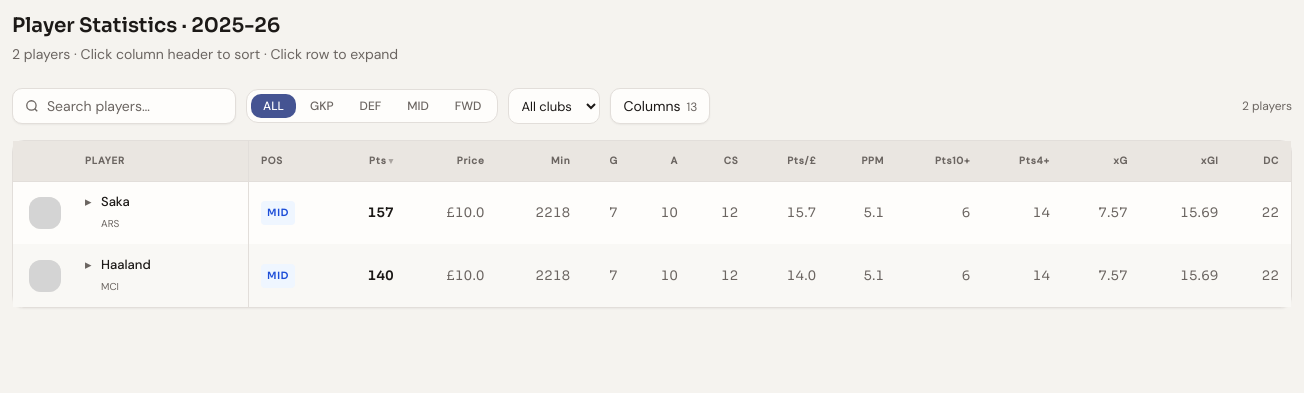
Test: Players: the row toggle behaves exactly like the career one › still expands when the row is clicked away from the toggle
Click the text "MID" in the row of "ARS" at [278, 212], box [261, 200, 295, 224]
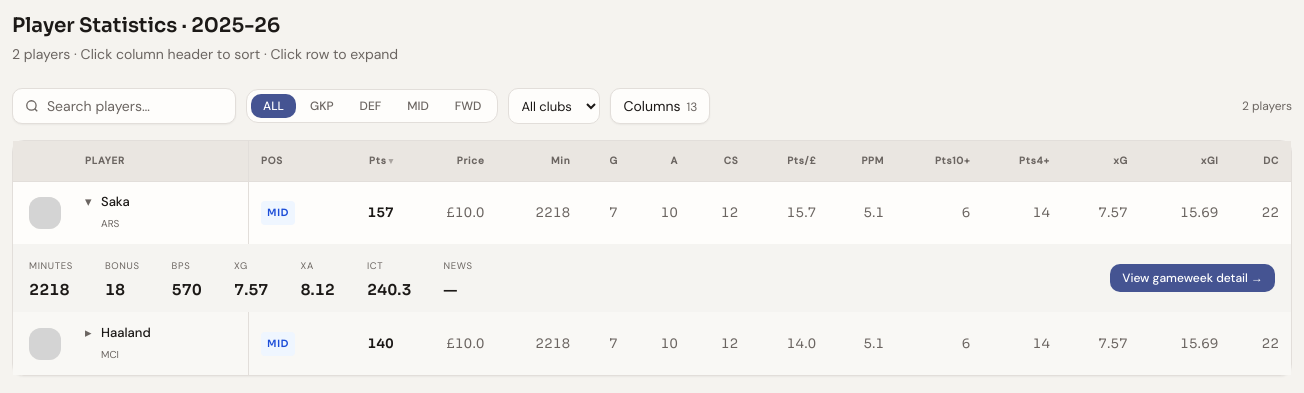
Now the button "▾ Saka" is expanded, box [85, 192, 130, 212]
